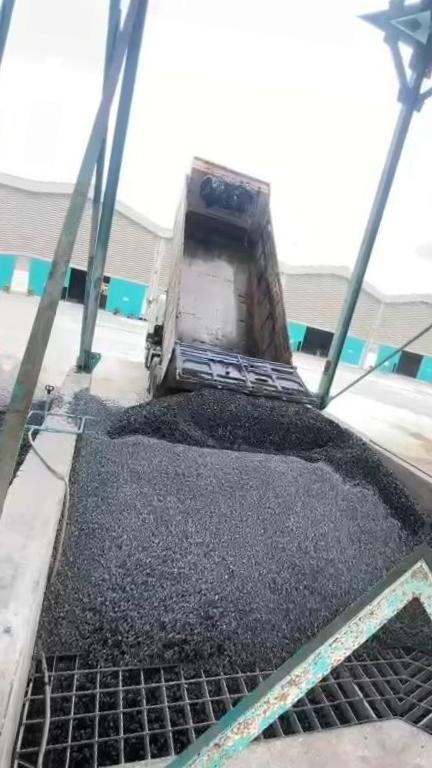gravel: (39, 385, 426, 670), (357, 598, 416, 658)
sand: (411, 433, 432, 474)
